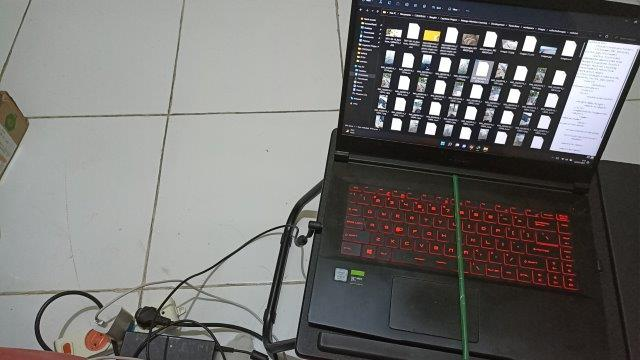sedotan: (453, 176, 470, 360)
